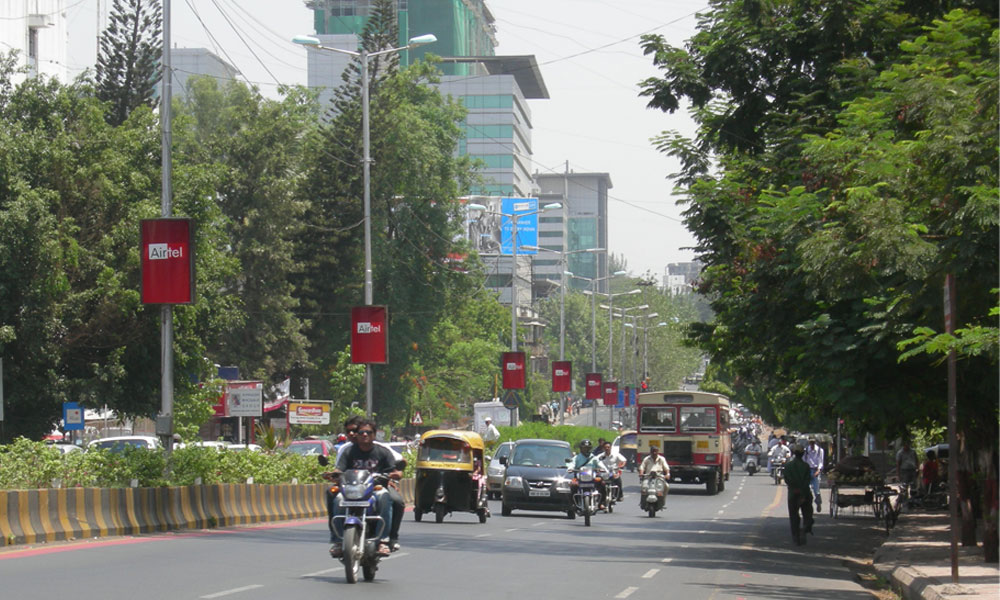autorickshaw: (410, 424, 494, 537)
car: (501, 435, 580, 527)
